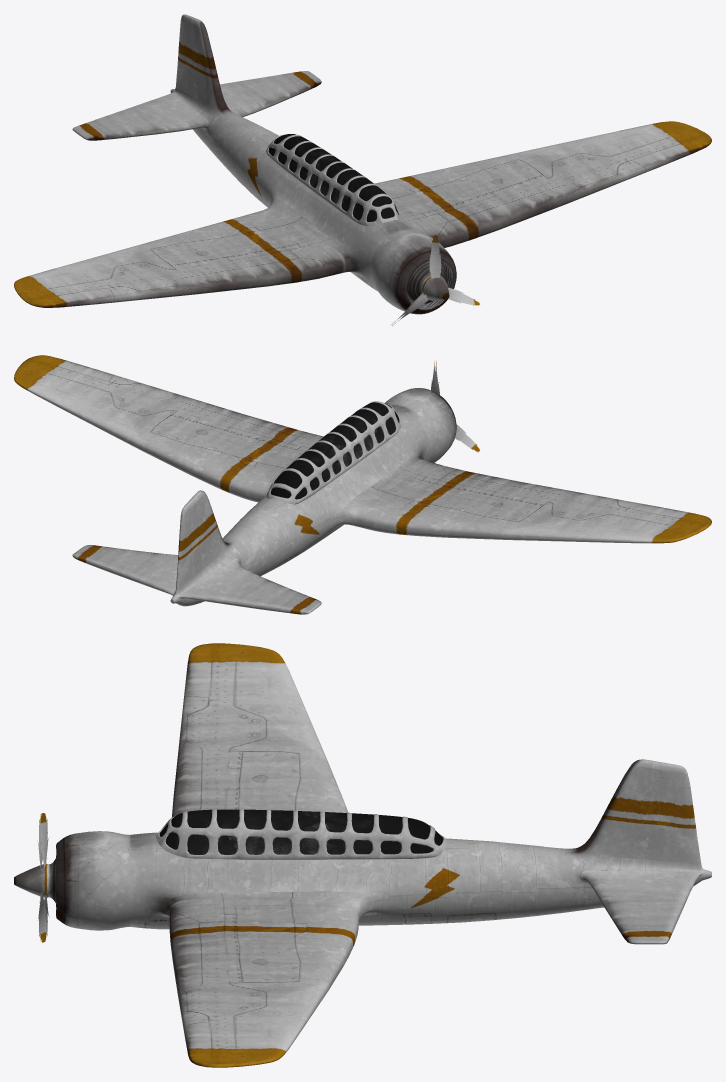
The model's file is Model_MitsubishiKi30.glb.
The picture shows the model from 3 angles, top to bottom: view 1: azimuth 30°, elevation 25°; view 2: azimuth 150°, elevation 25°; view 3: azimuth 270°, elevation 25°; orthographic projection. The views are drawn at different scales.
Parts seen in each view (by area): view 1: Circle, Circle.001, Circle.004, Cube; view 2: Circle, Circle.001, Circle.004, Cube; view 3: Circle, Circle.001, Circle.004, Cube.
Part boxes in pixels (left/top/right/bottom): Circle: left=14, top=14, right=711, bottom=314; Circle.001: left=268, top=134, right=398, bottom=222; Circle.004: left=266, top=134, right=401, bottom=225; Cube: left=391, top=235, right=479, bottom=325; Circle: left=14, top=355, right=711, bottom=614; Circle.001: left=270, top=402, right=399, bottom=499; Circle.004: left=266, top=401, right=401, bottom=504; Cube: left=431, top=361, right=479, bottom=452; Circle: left=14, top=643, right=711, bottom=1067; Circle.001: left=159, top=809, right=443, bottom=854; Circle.004: left=156, top=809, right=447, bottom=859; Cube: left=37, top=813, right=49, bottom=942.
Bounding box in the file's own units: 4.93 × 0.9025 × 3.44.
1 material, 1 textured.
